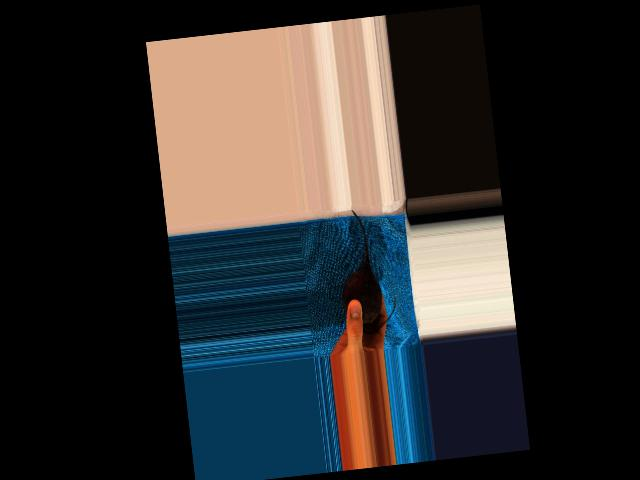beet: (331, 205, 398, 335)
